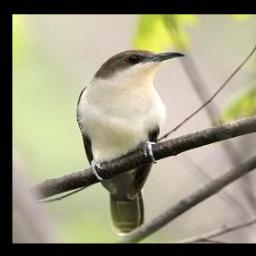Cuckoo: (75, 48, 187, 236)
